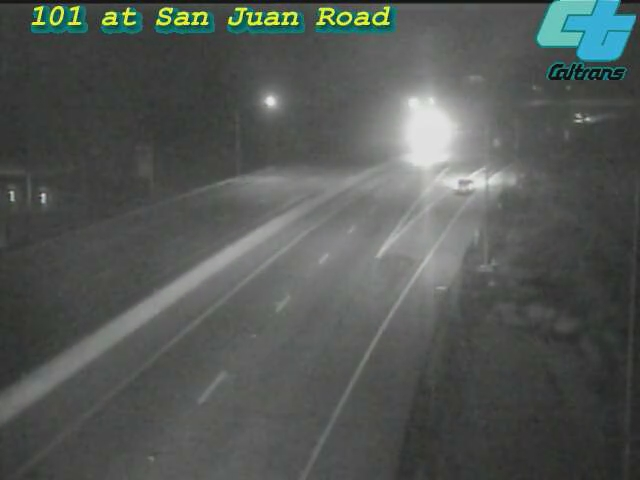vehicle: (423, 147, 503, 227), (402, 106, 452, 156), (558, 93, 608, 143), (404, 132, 454, 182)
